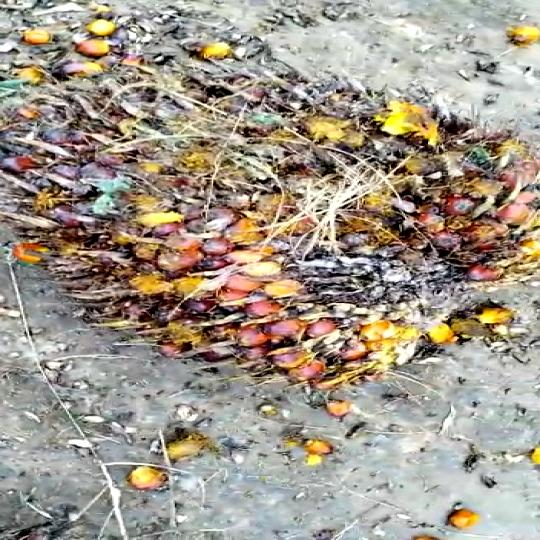masak: (0, 4, 540, 403)
